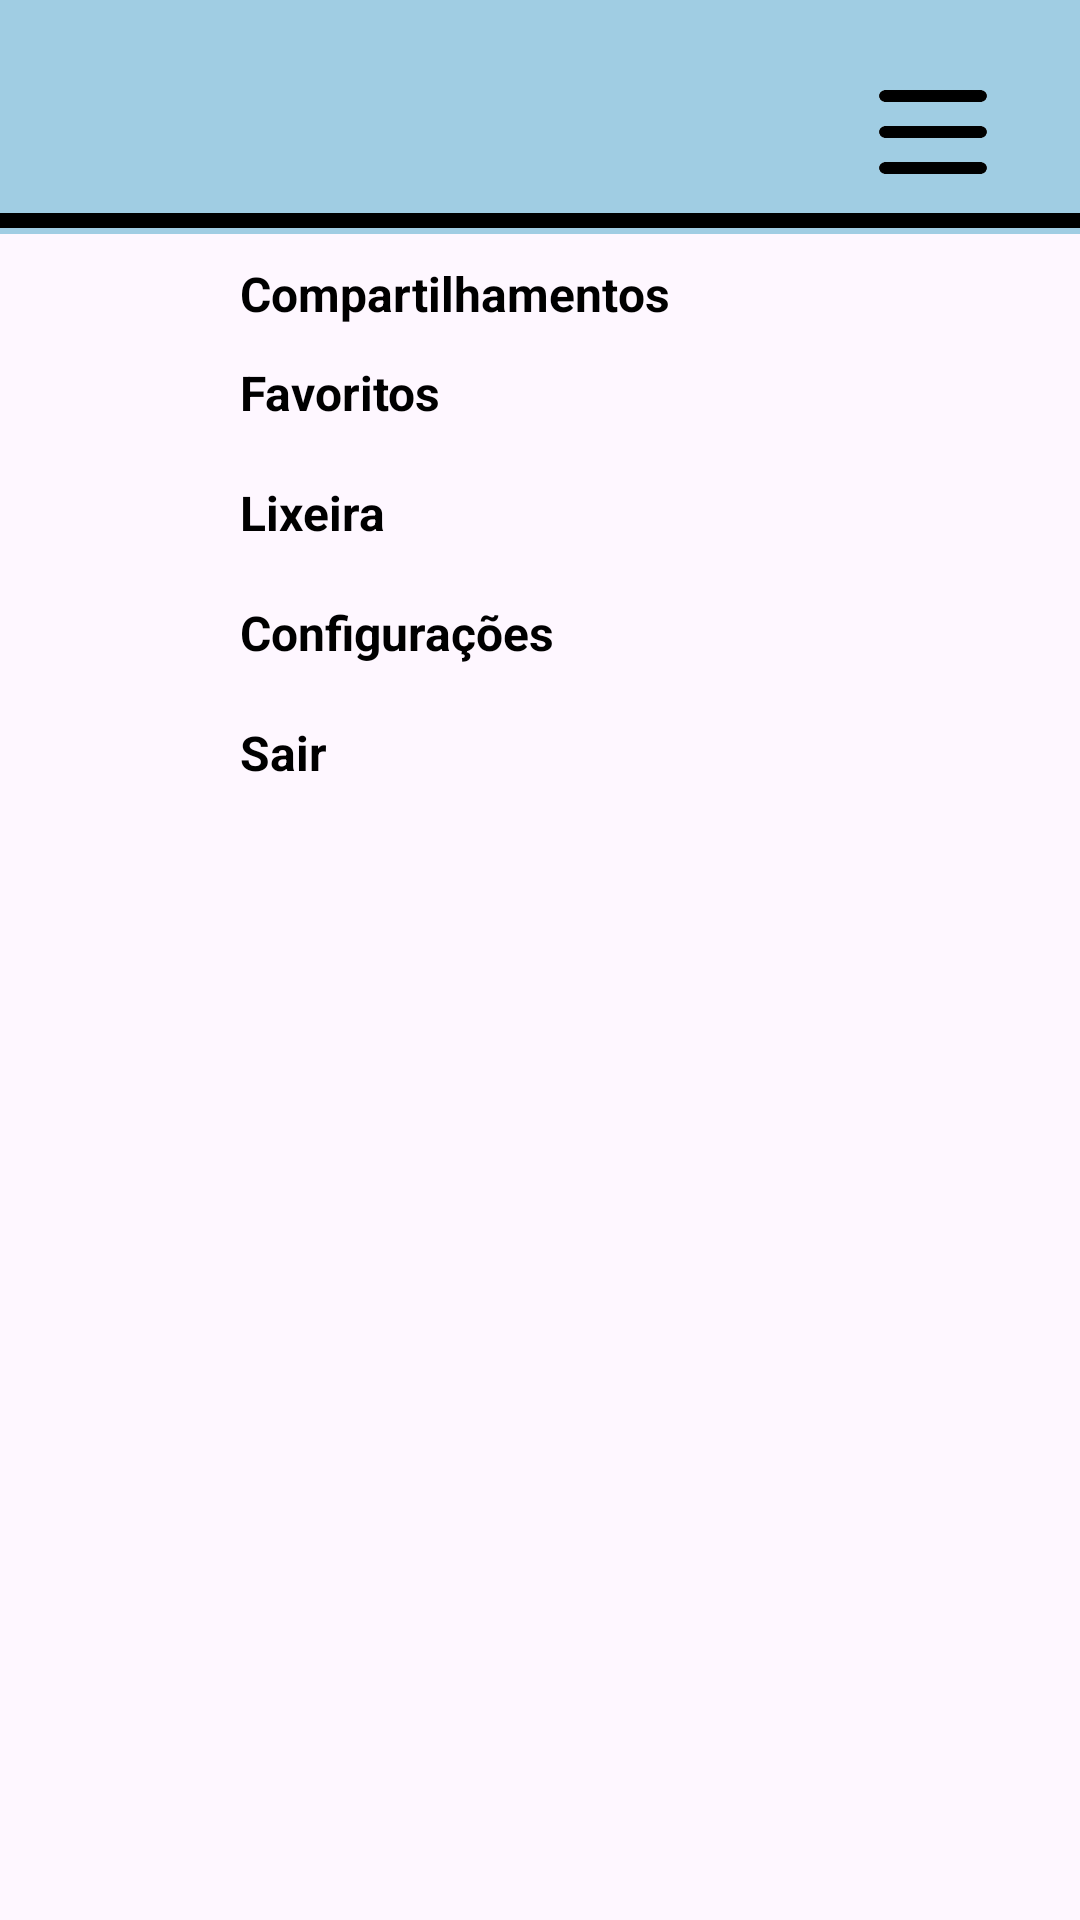

Where to tap for icons on this 1080px×1920px app screen, as [x,y]:
Menu: [933,132]
